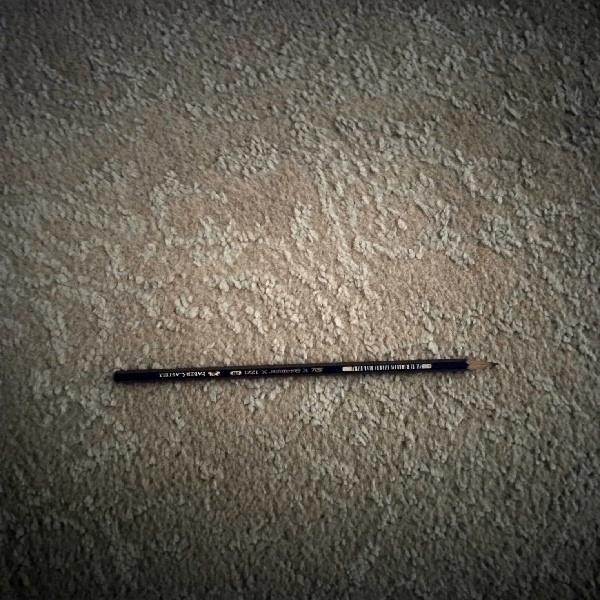pencil: (113, 358, 495, 382)
